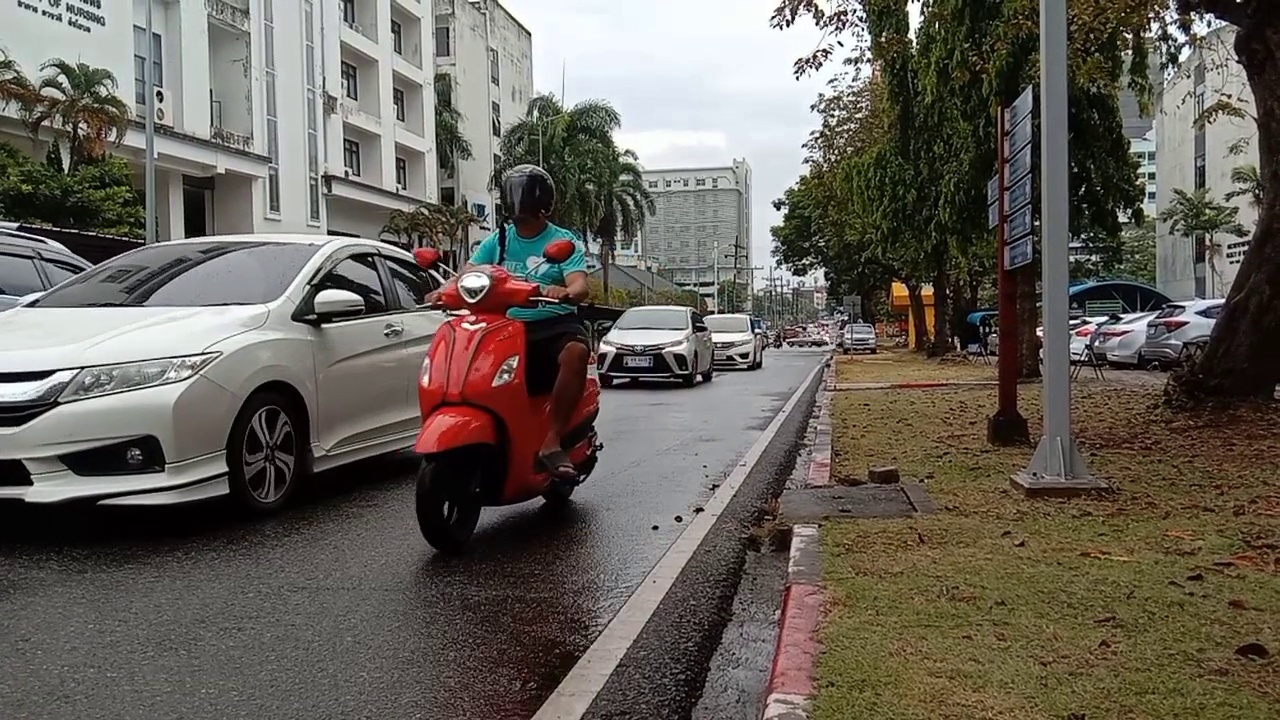License Plate: (623, 357, 655, 369)
